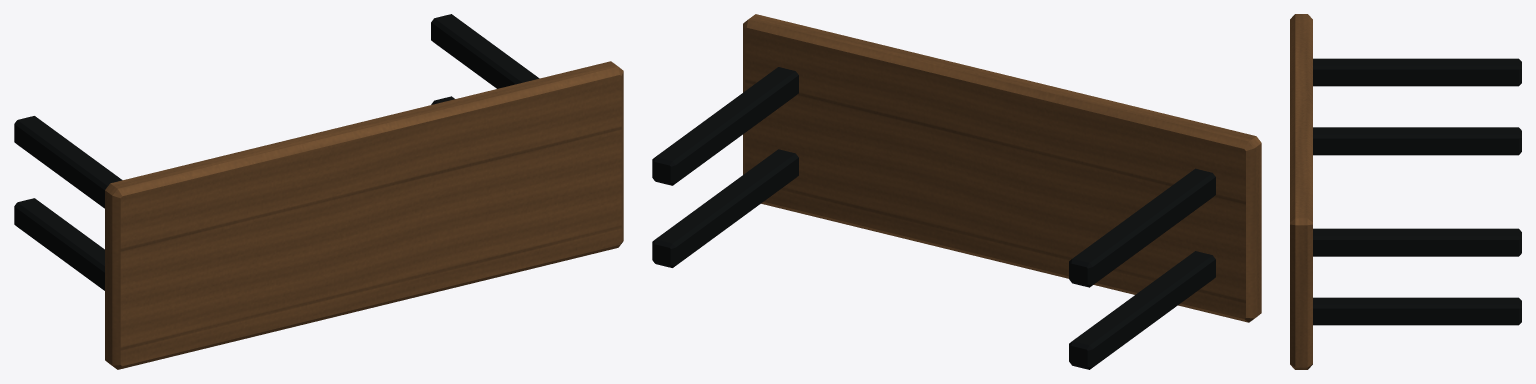
The model's file is desk_4.obj.
3 renders of one model, left to right at view 1: azimuth 30°, elevation 25°; view 2: azimuth 150°, elevation 25°; view 3: azimuth 270°, elevation 25°, orthographic. The views are drawn at different scales.
Visible parts, largest first — view 1: desk_4_oak, desk_4_frame; view 2: desk_4_oak, desk_4_frame; view 3: desk_4_frame, desk_4_oak.
Part boxes in pixels (x1,y1,x2,y2): desk_4_oak: (105, 61, 623, 369); desk_4_frame: (14, 14, 539, 290); desk_4_oak: (743, 14, 1261, 322); desk_4_frame: (652, 67, 1215, 369); desk_4_frame: (1313, 58, 1521, 325); desk_4_oak: (1290, 14, 1312, 369).
Bounding box in the file's own units: 65 × 22 × 30.5.
Materials: 2 (2 with a texture image).
